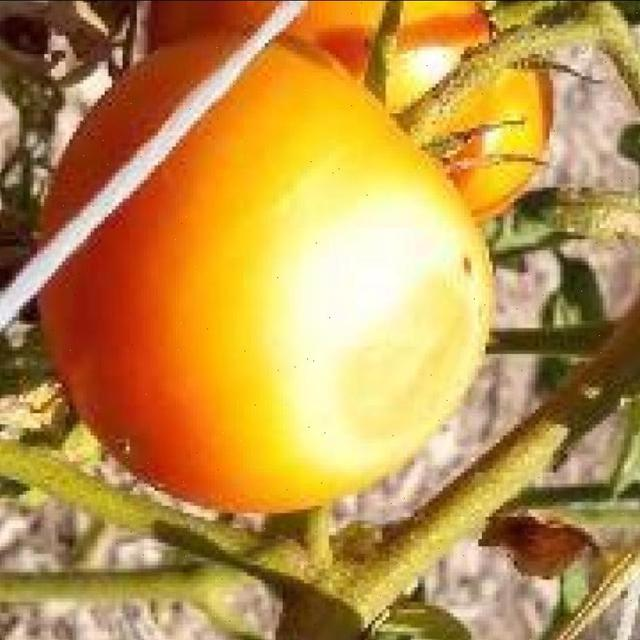Sunscald Fruit: (152, 120, 328, 332)
